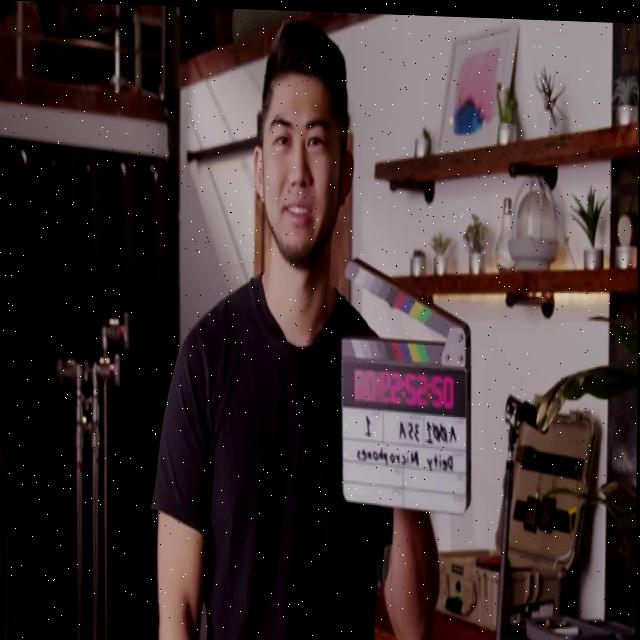Clapperboard: (342, 256, 474, 517)
